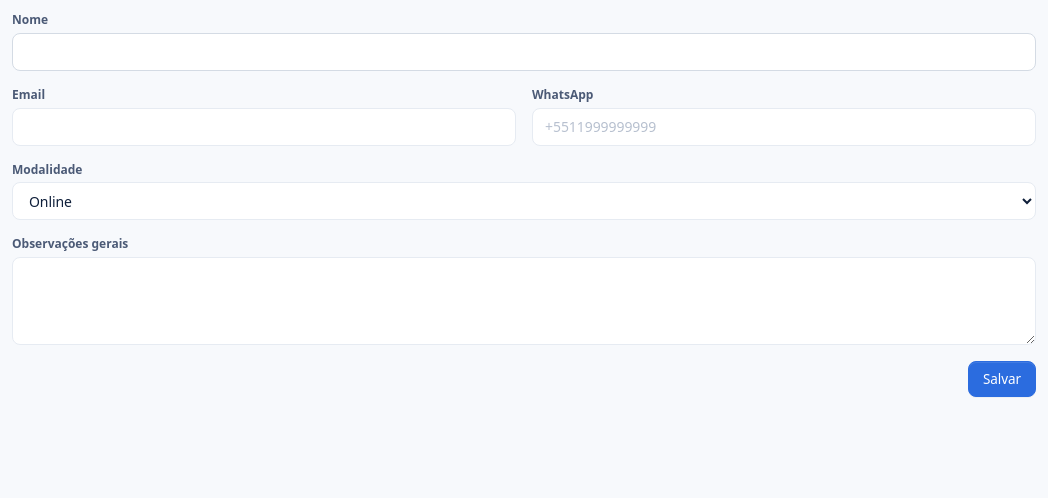
Test: PatientForm › shows server-side fieldErrors
This screenshot has width=1048, height=498.
Type "X" into the field labelled "Nome" at (524, 52), box [12,33,1036,71]
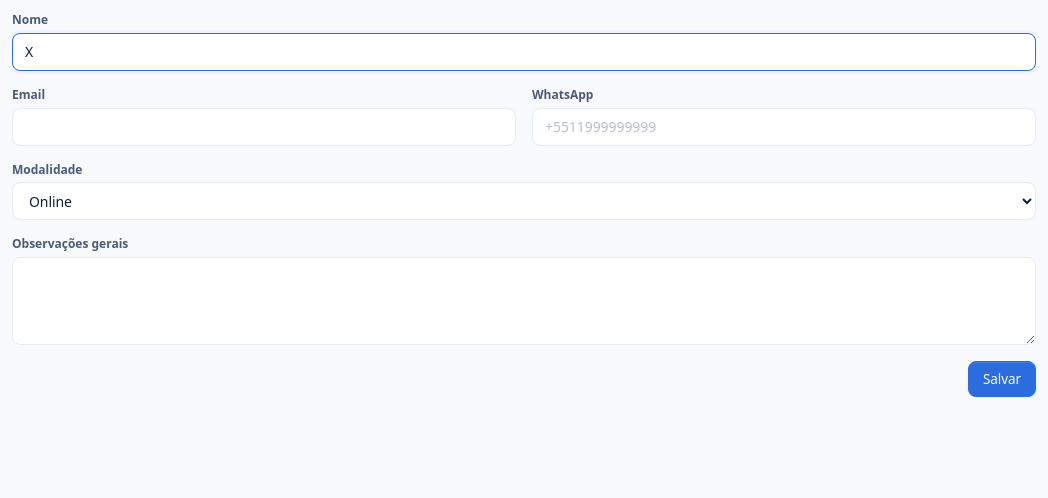
Click the button "Salvar" at (1002, 379), box [968,361,1036,397]
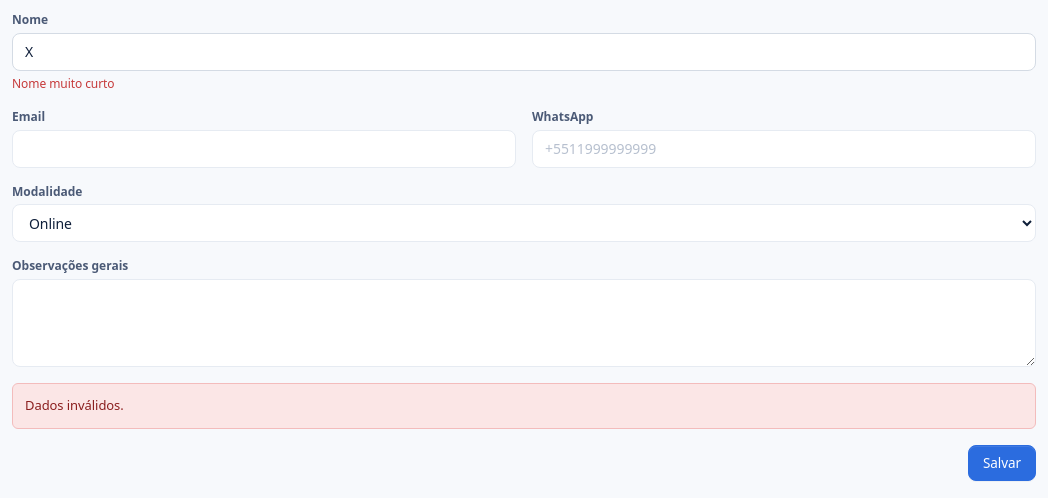
Expected: the text "Nome muito curto" is shown, [12,75,114,92]
